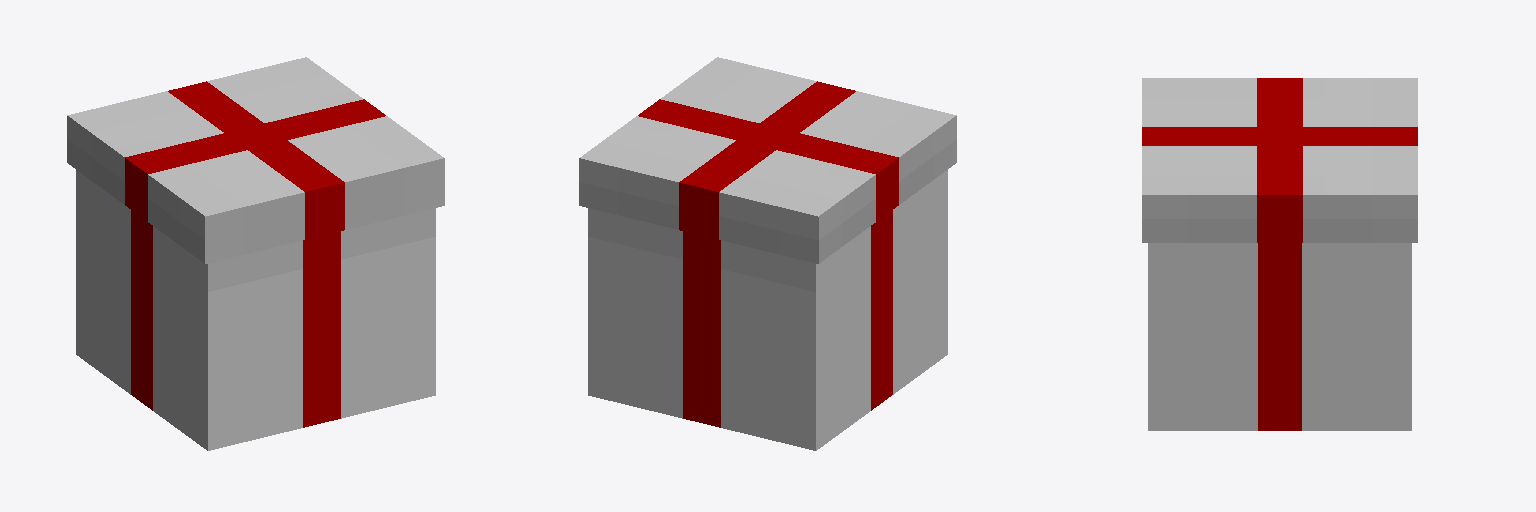
The picture shows the model from 3 angles: view 1: azimuth 30°, elevation 25°; view 2: azimuth 150°, elevation 25°; view 3: azimuth 270°, elevation 25°; orthographic projection.
Parts seen in each view (by area): view 1: present_box_large_present_box_large_mesh; view 2: present_box_large_present_box_large_mesh; view 3: present_box_large_present_box_large_mesh.
Boxes of the visible parts, <box> form: present_box_large_present_box_large_mesh: <box>67,57,444,450</box>; present_box_large_present_box_large_mesh: <box>579,57,956,450</box>; present_box_large_present_box_large_mesh: <box>1142,78,1417,430</box>.
Size of the model in its own units: 1.05 by 1 by 1.05.
1 materials, 1 textured.